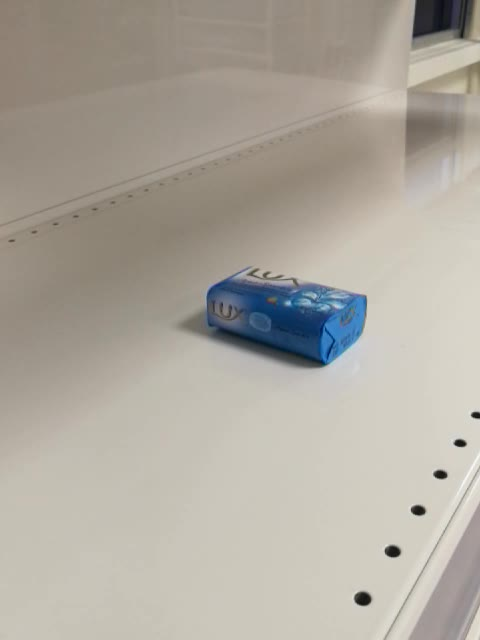soap: (204, 264, 369, 367)
